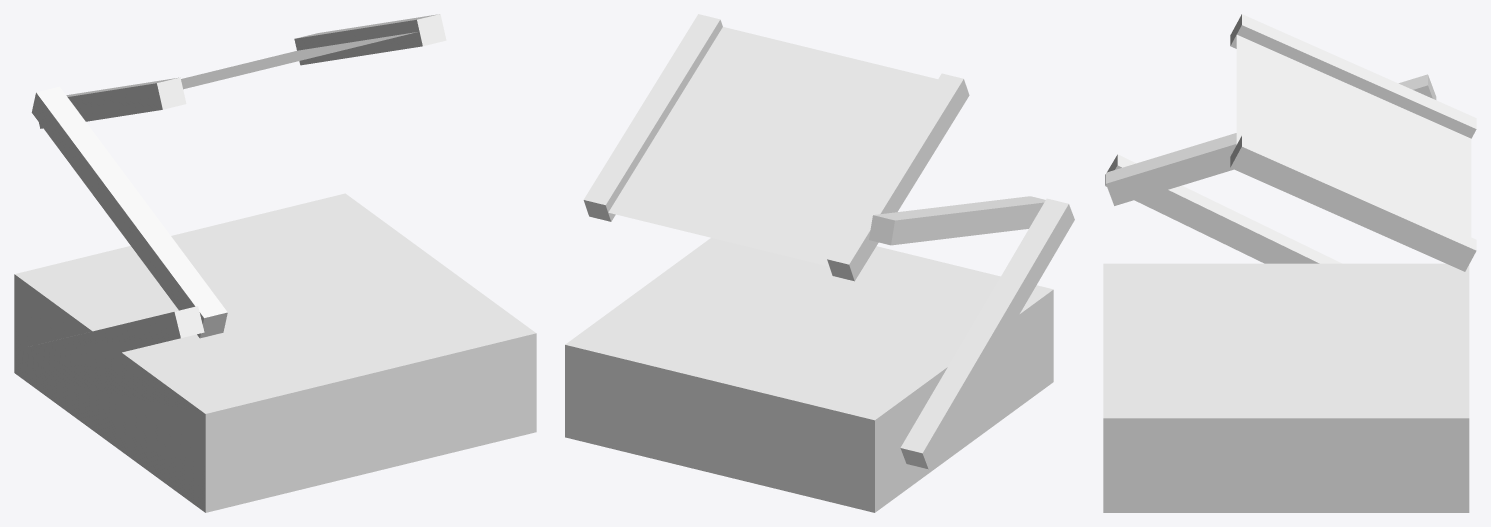
The model's file is seed_analyzer.obj.
The picture shows the model from 3 angles, left to right: view 1: azimuth 30°, elevation 25°; view 2: azimuth 150°, elevation 25°; view 3: azimuth 270°, elevation 25°; orthographic projection. The views are drawn at different scales.
Parts seen in each view (by area): view 1: base, stick2, stick1, frame1, frame2, window; view 2: base, window, stick1, frame2, frame1, stick2; view 3: base, window, frame1, stick1, frame2, stick2.
Part boxes in pixels (box(x1,y1,x2,y2)): base: box(14, 193, 536, 512); stick2: box(31, 86, 227, 338); stick1: box(18, 306, 204, 375); frame1: box(294, 14, 446, 65); frame2: box(39, 77, 186, 128); window: box(181, 32, 417, 89); base: box(565, 238, 1053, 512); window: box(608, 27, 937, 266); stick1: box(900, 198, 1074, 469); frame2: box(827, 73, 969, 281); frame1: box(583, 14, 722, 221); stick2: box(869, 196, 1045, 245); base: box(1103, 263, 1469, 512); window: box(1236, 35, 1471, 236); frame1: box(1230, 135, 1476, 271); stick1: box(1105, 154, 1341, 263); frame2: box(1230, 14, 1476, 138); stick2: box(1106, 74, 1436, 205).
Bounding box in the file's own units: 0.9375 × 0.9375 × 0.8925.
